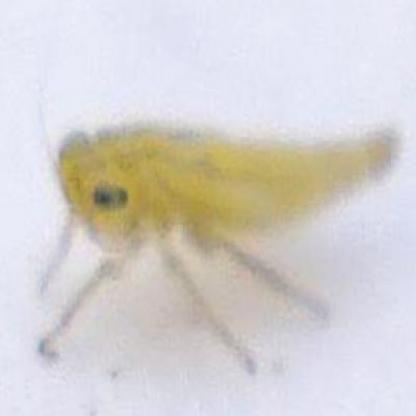green-leafhopper: (53, 122, 400, 284)
